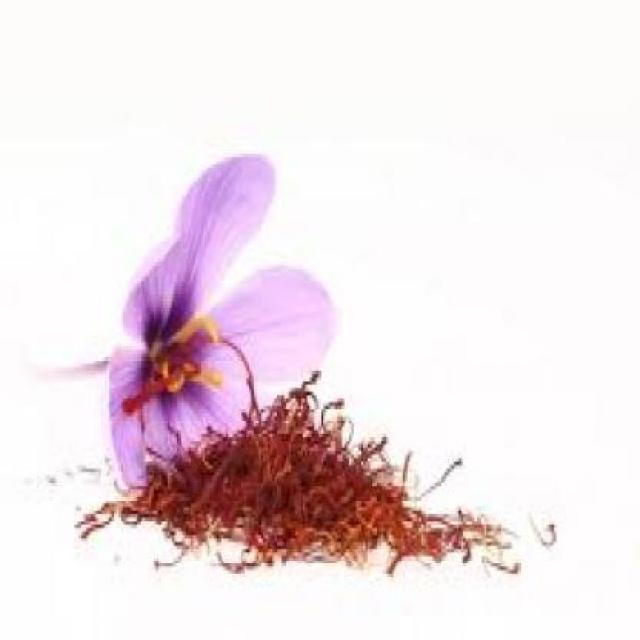Flower: (103, 147, 342, 501)
stigma: (222, 336, 264, 432)
